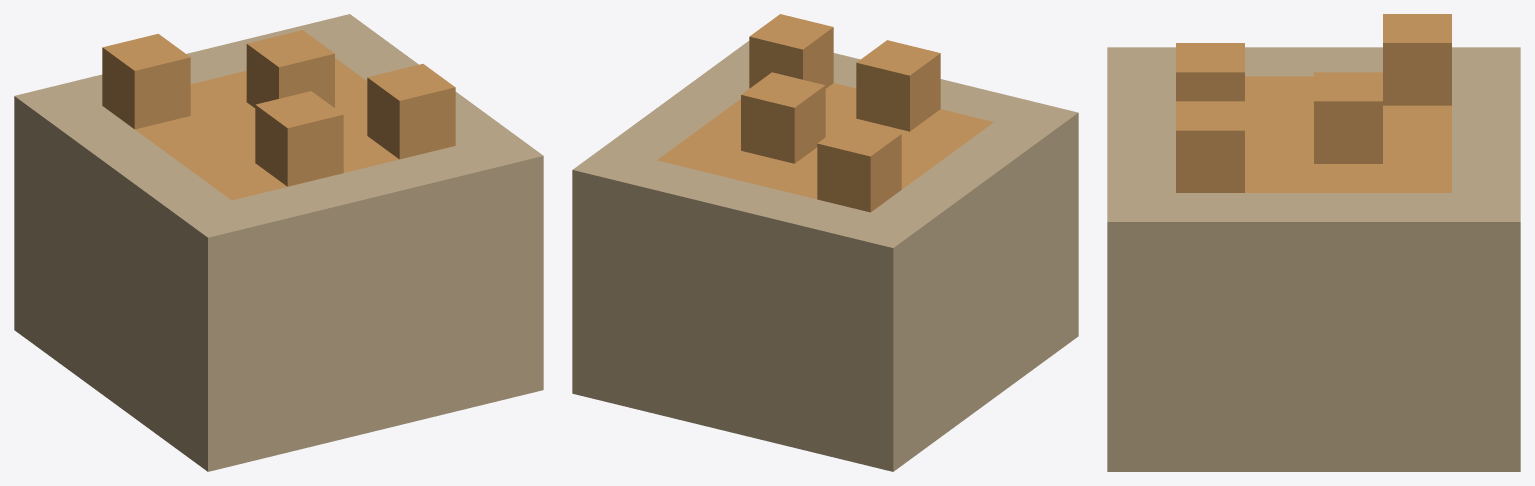
The model's file is cageot_carottes.glb.
3 renders of one model, left to right at view 1: azimuth 30°, elevation 25°; view 2: azimuth 150°, elevation 25°; view 3: azimuth 270°, elevation 25°, orthographic. The views are drawn at different scales.
Parts seen in each view (by area): view 1: geometry_0; view 2: geometry_0; view 3: geometry_0.
Part boxes in pixels (x1=…): geometry_0: x1=14, y1=14, x2=543, y2=471; geometry_0: x1=572, y1=14, x2=1078, y2=471; geometry_0: x1=1107, y1=14, x2=1520, y2=471.
Size of the model in its own units: 0.75 by 0.625 by 0.75.
